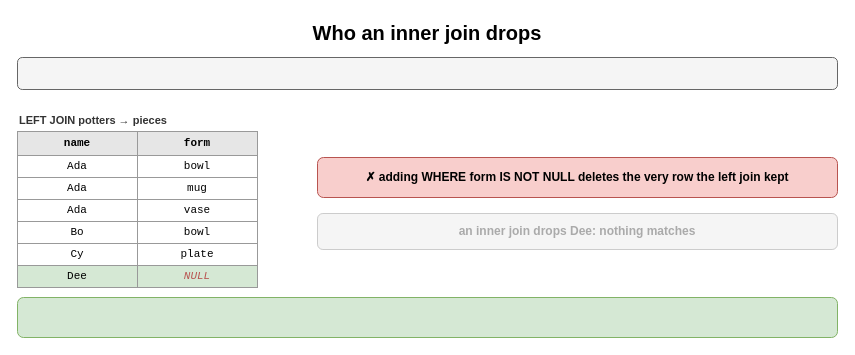
Some shapes in this 855 by 355 pixel diagram are drawn without their labels. The centre of each missing label's shape, as x and y in pixels:
Answer: A left join from potters to pieces keeps Dee, with form NULL.: [427,317]
List every potter and the forms they make. Dee has no pieces: [427,73]
